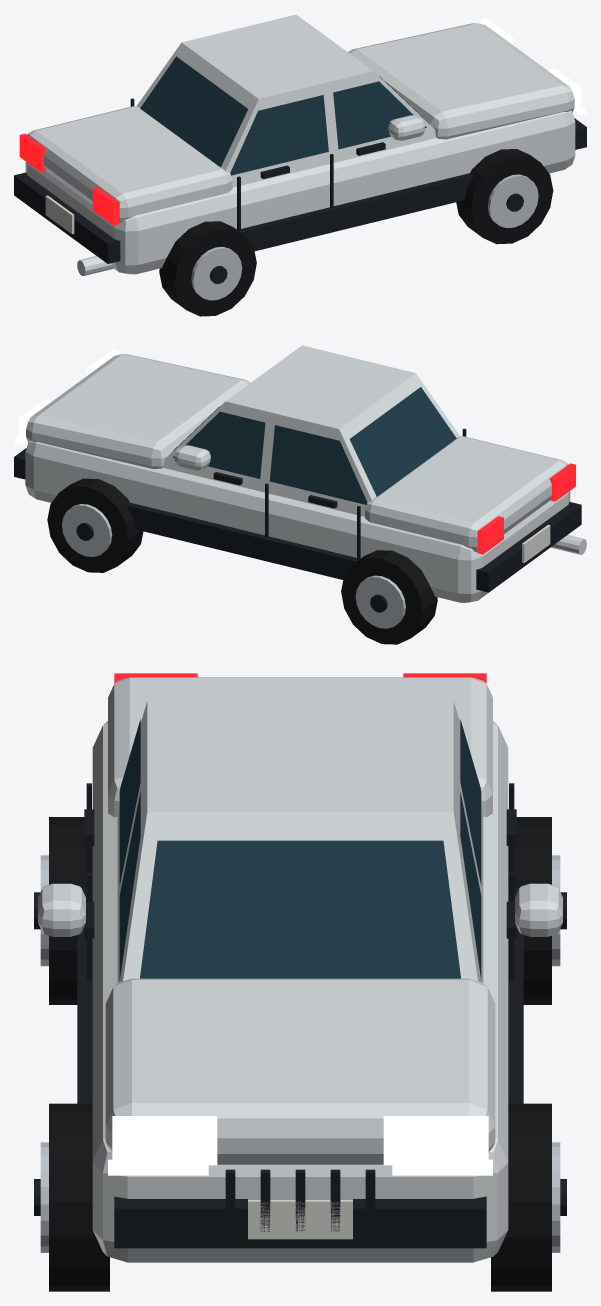
Rendered from Stage7.glb.
3 renders of one model, top to bottom at view 1: azimuth 30°, elevation 25°; view 2: azimuth 150°, elevation 25°; view 3: azimuth 270°, elevation 25°, orthographic. The views are drawn at different scales.
Parts seen in each view (by area): view 1: LowerBody.006, CabinShell.006, Hood.006, Trunk.006, SideWindows.004, RearWindow.005, RockerPanels.006, Tire_-1.55_-1.007, Tire_1.55_-1.006, Bumpers.005, Rim_-1.55_-1.007, Rim_1.55_-1.006 (+7 smaller); view 2: LowerBody.006, CabinShell.006, Hood.006, Trunk.006, SideWindows.004, RearWindow.005, RockerPanels.006, Tire_-1.55_1.007, Tire_1.55_1.007, Bumpers.005, Rim_-1.55_1.007, Rim_1.55_1.007 (+7 smaller); view 3: Hood.006, CabinShell.006, Windshield.006, LowerBody.006, Trunk.006, Bumpers.005, Headlights.003, Tire_1.55_-1.006, Tire_1.55_1.007, SideWindows.004, RockerPanels.006, Tire_-1.55_-1.007 (+11 smaller).
Part boxes in pixels (bbox=[...]): LowerBody.006: bbox=[25, 111, 575, 274]; CabinShell.006: bbox=[136, 14, 436, 187]; Hood.006: bbox=[348, 23, 574, 139]; Trunk.006: bbox=[27, 106, 232, 222]; SideWindows.004: bbox=[230, 81, 426, 175]; RearWindow.005: bbox=[140, 56, 248, 167]; RockerPanels.006: bbox=[239, 173, 473, 251]; Tire_-1.55_-1.007: bbox=[159, 221, 256, 316]; Tire_1.55_-1.006: bbox=[456, 149, 553, 244]; Bumpers.005: bbox=[14, 118, 586, 263]; Rim_-1.55_-1.007: bbox=[191, 247, 242, 300]; Rim_1.55_-1.006: bbox=[488, 174, 538, 227]; LowerBody.006: bbox=[25, 441, 570, 602]; CabinShell.006: bbox=[163, 345, 460, 516]; Hood.006: bbox=[26, 354, 250, 468]; Trunk.006: bbox=[365, 436, 568, 551]; SideWindows.004: bbox=[173, 411, 367, 504]; RearWindow.005: bbox=[349, 387, 456, 496]; RockerPanels.006: bbox=[126, 502, 358, 579]; Tire_-1.55_1.007: bbox=[341, 550, 437, 644]; Tire_1.55_1.007: bbox=[47, 478, 143, 572]; Bumpers.005: bbox=[14, 448, 581, 592]; Rim_-1.55_1.007: bbox=[355, 575, 405, 628]; Rim_1.55_1.007: bbox=[62, 504, 112, 556]; Hood.006: bbox=[105, 978, 495, 1164]; CabinShell.006: bbox=[117, 701, 483, 982]; Windshield.006: bbox=[140, 840, 460, 978]; LowerBody.006: bbox=[92, 721, 508, 1262]; Trunk.006: bbox=[108, 677, 492, 817]; Bumpers.005: bbox=[114, 1196, 486, 1248]; Headlights.003: bbox=[112, 1116, 488, 1165]; Tire_1.55_-1.006: bbox=[49, 1103, 109, 1291]; Tire_1.55_1.007: bbox=[491, 1103, 551, 1291]; SideWindows.004: bbox=[119, 719, 481, 979]; RockerPanels.006: bbox=[77, 887, 523, 1103]; Tire_-1.55_-1.007: bbox=[49, 817, 92, 1004].
Bounding box in the file's own units: 5.18 × 1.82 × 2.44.
